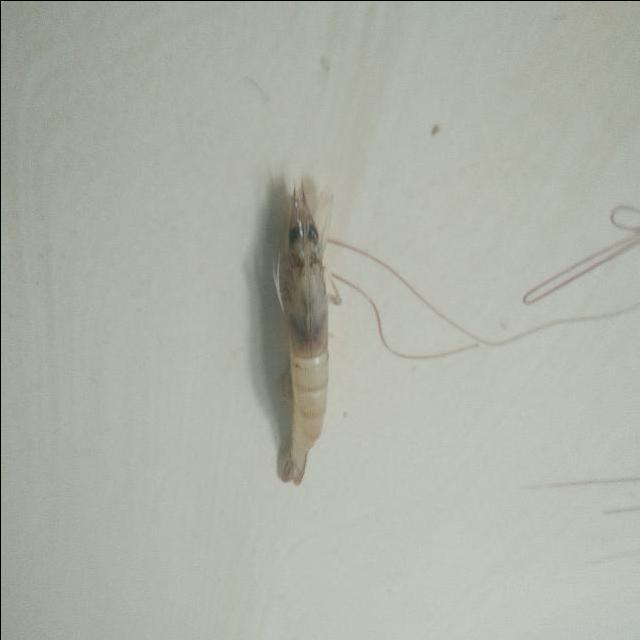shrimp: (279, 172, 329, 486)
